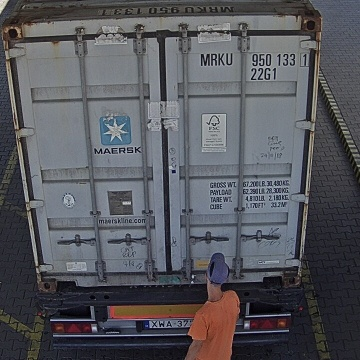serial_id: (200, 52, 309, 65)
